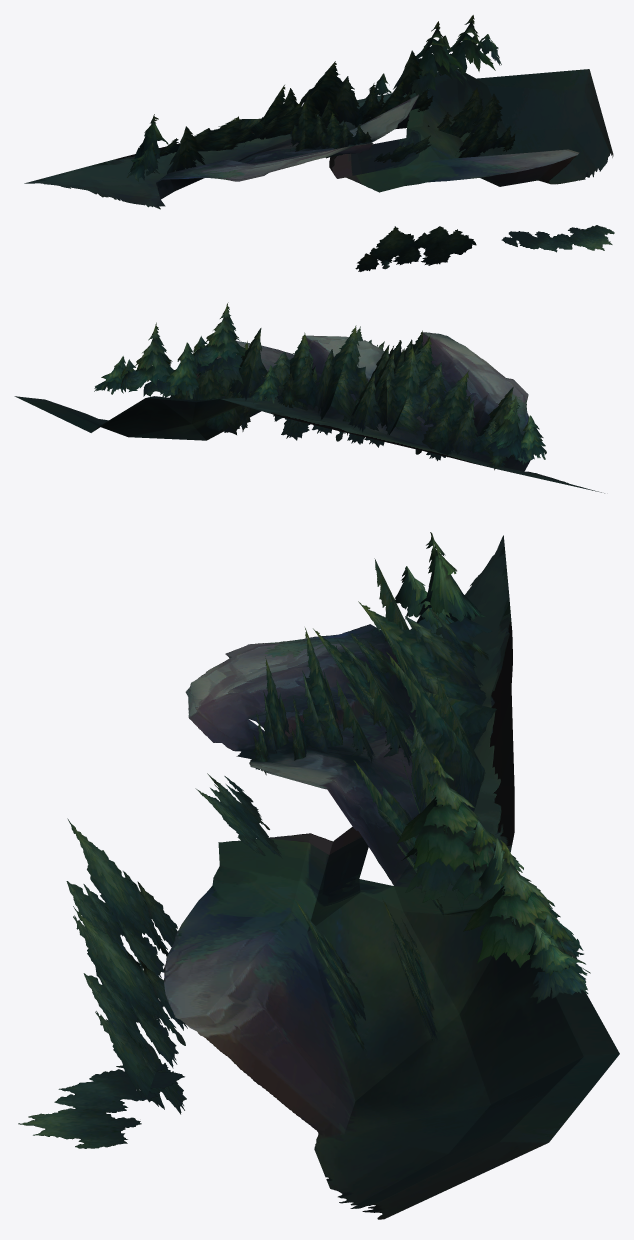
The model's file is MapObject_13.FBX.
The picture shows the model from 3 angles, top to bottom: view 1: azimuth 30°, elevation 25°; view 2: azimuth 150°, elevation 25°; view 3: azimuth 270°, elevation 25°; orthographic projection. The views are drawn at different scales.
Visible parts, largest first — view 1: polySurfaceMapGeoMesh183; view 2: polySurfaceMapGeoMesh183; view 3: polySurfaceMapGeoMesh183.
Boxes of the visible parts, box(x1,y1,x2,y2) form: polySurfaceMapGeoMesh183: box(24, 15, 614, 271); polySurfaceMapGeoMesh183: box(14, 302, 604, 493); polySurfaceMapGeoMesh183: box(18, 532, 619, 1219).
Size of the model in its own units: 5258 by 1587 by 2449.
